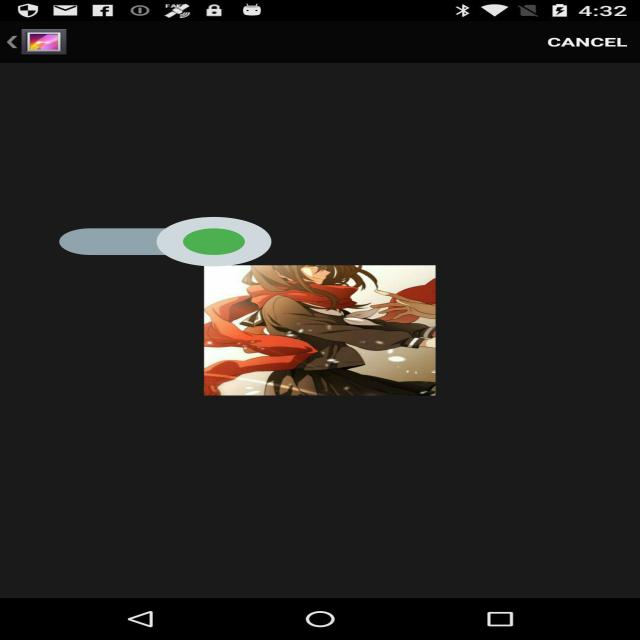social proof: (60, 196, 272, 287)
